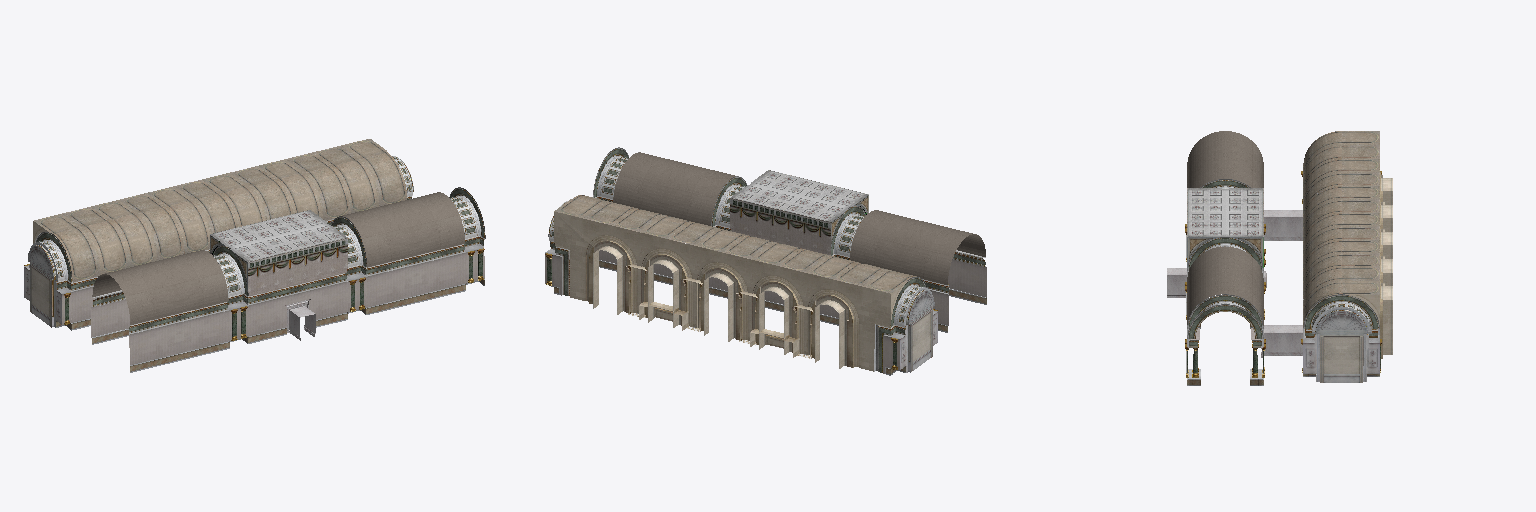
The picture shows the model from 3 angles: view 1: azimuth 30°, elevation 25°; view 2: azimuth 150°, elevation 25°; view 3: azimuth 270°, elevation 25°; orthographic projection.
Visible parts, largest first — view 1: Box010, Gang_Dach_Ecke002, Gang_Wand_T�re_004, Gang_Dach_Bogen_Var008, Gang_Dach_Bogen_Var007, Gang_Dach_Bogen_Var006, Gang_Dach_Bogen_Var003, Gang_Dach_Bogen_Var005, Gang_Wand_Standart066, Gang_Wand_Standart067, Gang_Wand_Standart065, Gang_Wand_Standart068 (+16 smaller); view 2: Box010, Gang_Dach_Ecke003, WindowWalk_Endst�ck003, Repeating_Segment044, Repeating_Segment045, WindowWalk_Endst�ck002, Repeating_Segment043, Box009, Gang_Cap_Bogen002, Gang_Dach_Ecke002, Gang_Wand_Standart066, Gang_Wand_T�re_008 (+9 smaller); view 3: Box010, Gang_Cap_Bogen001, WindowWalk_Endst�ck002, Gang_Dach_Ecke002, Gang_Endst�ck071, Gang_Dach_Ecke003, Gang_Endst�ck_Var011, Box009, Repeating_Segment043, Repeating_Segment044, Repeating_Segment045, WindowWalk_Endst�ck003 (+12 smaller).
Boxes of the visible parts, x1=… form: Box010: x1=92, y1=192, x2=464, y2=324; Gang_Dach_Ecke002: x1=230, y1=224, x2=347, y2=295; Gang_Wand_T�re_004: x1=248, y1=273, x2=347, y2=343; Gang_Dach_Bogen_Var008: x1=54, y1=220, x2=128, y2=282; Gang_Dach_Bogen_Var007: x1=332, y1=153, x2=406, y2=212; Gang_Dach_Bogen_Var006: x1=110, y1=207, x2=183, y2=267; Gang_Dach_Bogen_Var003: x1=277, y1=166, x2=350, y2=220; Gang_Dach_Bogen_Var005: x1=166, y1=193, x2=237, y2=253; Gang_Wand_Standart066: x1=129, y1=314, x2=179, y2=372; Gang_Wand_Standart067: x1=415, y1=244, x2=466, y2=302; Gang_Wand_Standart065: x1=178, y1=302, x2=229, y2=360; Gang_Wand_Standart068: x1=366, y1=256, x2=415, y2=314; Box010: x1=613, y1=152, x2=985, y2=284; Gang_Dach_Ecke003: x1=730, y1=184, x2=847, y2=254; WindowWalk_Endst�ck003: x1=828, y1=266, x2=908, y2=371; Repeating_Segment044: x1=717, y1=238, x2=795, y2=349; Repeating_Segment045: x1=606, y1=211, x2=684, y2=322; WindowWalk_Endst�ck002: x1=554, y1=198, x2=629, y2=308; Repeating_Segment043: x1=772, y1=252, x2=851, y2=362; Box009: x1=661, y1=225, x2=740, y2=335; Gang_Cap_Bogen002: x1=900, y1=287, x2=937, y2=372; Gang_Dach_Ecke002: x1=751, y1=170, x2=868, y2=214; Gang_Wand_Standart066: x1=948, y1=250, x2=986, y2=304; Gang_Wand_T�re_008: x1=599, y1=250, x2=838, y2=325; Box010: x1=1187, y1=131, x2=1263, y2=325; Gang_Cap_Bogen001: x1=1303, y1=307, x2=1379, y2=382; WindowWalk_Endst�ck002: x1=1342, y1=267, x2=1392, y2=358; Gang_Dach_Ecke002: x1=1187, y1=188, x2=1225, y2=267; Gang_Endst�ck071: x1=1187, y1=294, x2=1263, y2=385; Gang_Dach_Ecke003: x1=1226, y1=188, x2=1263, y2=267; Gang_Endst�ck_Var011: x1=1303, y1=294, x2=1379, y2=376; Box009: x1=1342, y1=213, x2=1392, y2=260; Repeating_Segment043: x1=1342, y1=159, x2=1392, y2=205; Repeating_Segment044: x1=1342, y1=186, x2=1392, y2=232; Repeating_Segment045: x1=1342, y1=240, x2=1392, y2=287; WindowWalk_Endst�ck003: x1=1342, y1=131, x2=1392, y2=178.
Size of the model in its own units: 45.71 by 9.75 by 24.16.
Materials: 7 (7 with a texture image).